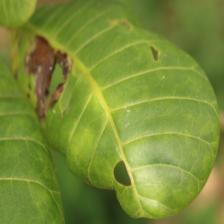leaf miner: (18, 28, 79, 129)
